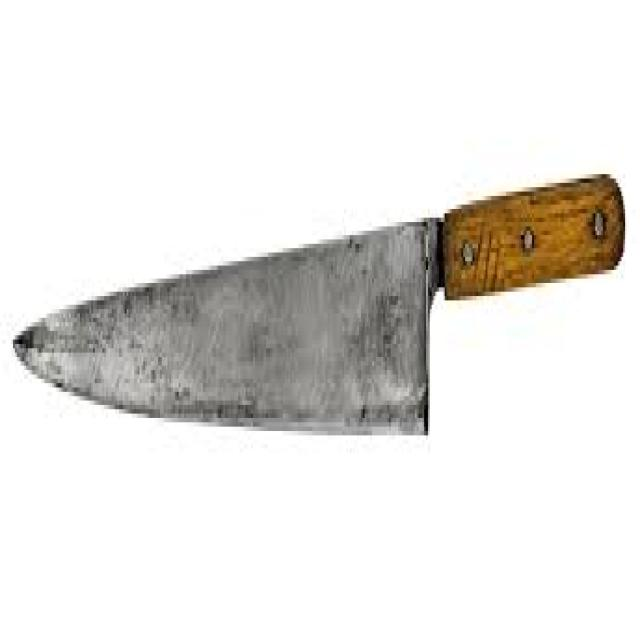Knife: (11, 170, 625, 435)
